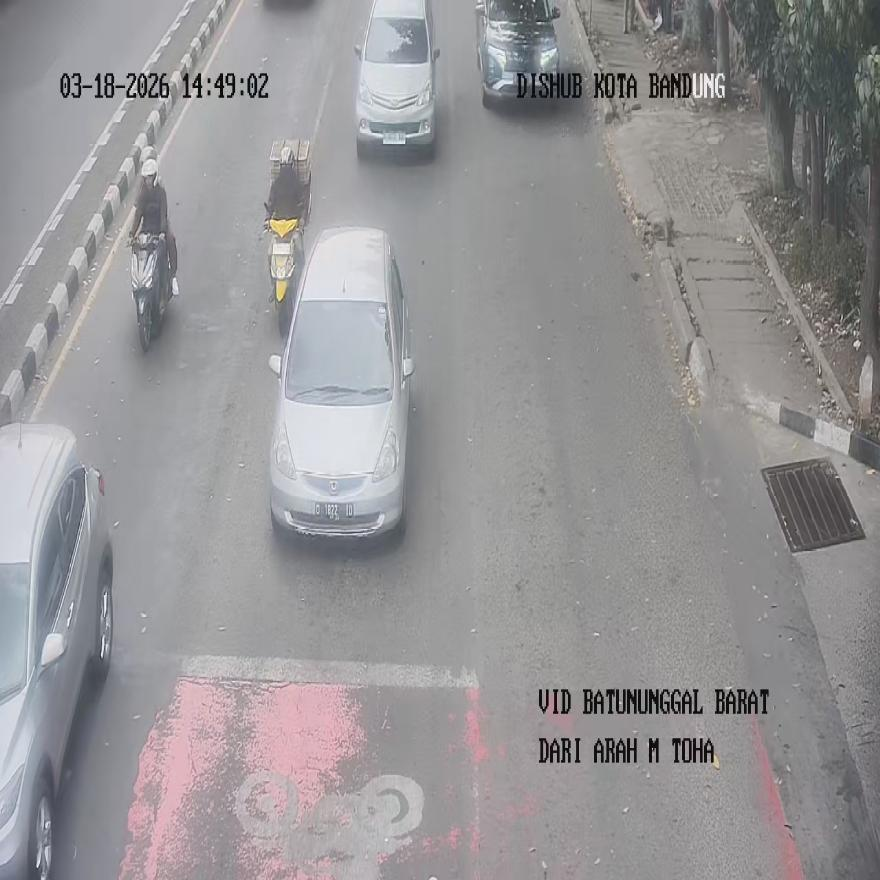Mobil: (0, 422, 113, 877), (269, 226, 413, 540), (354, 0, 439, 154), (474, 0, 560, 106)
Motor: (128, 229, 172, 353), (266, 215, 303, 331)
